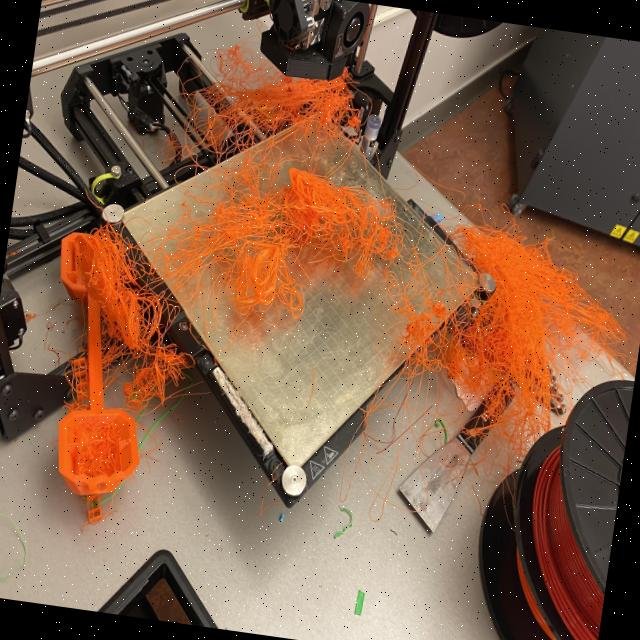spaghetti: (146, 27, 422, 326), (17, 202, 197, 547), (410, 196, 624, 447)
